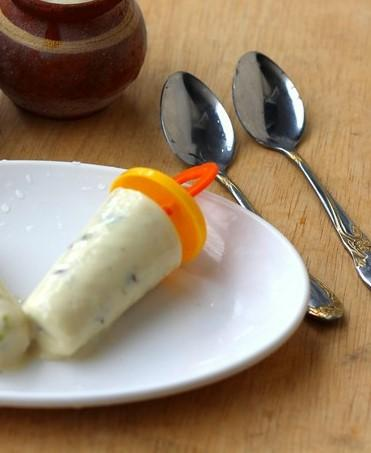Kulfi: (20, 185, 185, 360)
